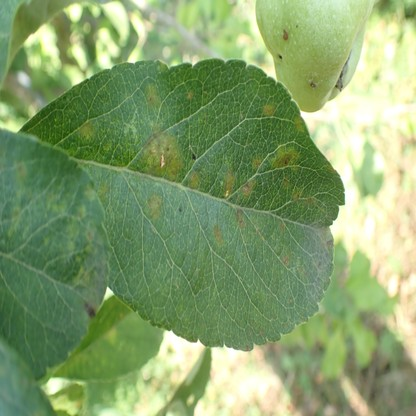scab: (78, 83, 332, 306), (0, 150, 108, 317), (243, 343, 251, 350)
